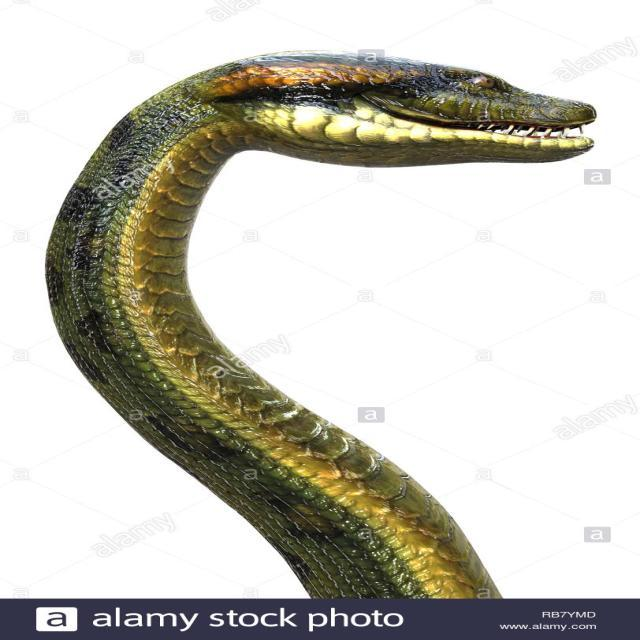Snake: (0, 28, 631, 575)
